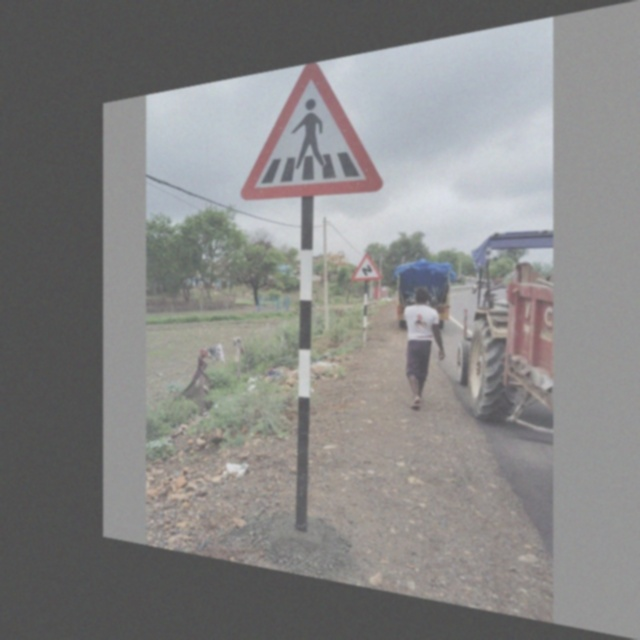Pedestrian_Crossing: (240, 52, 382, 202)
